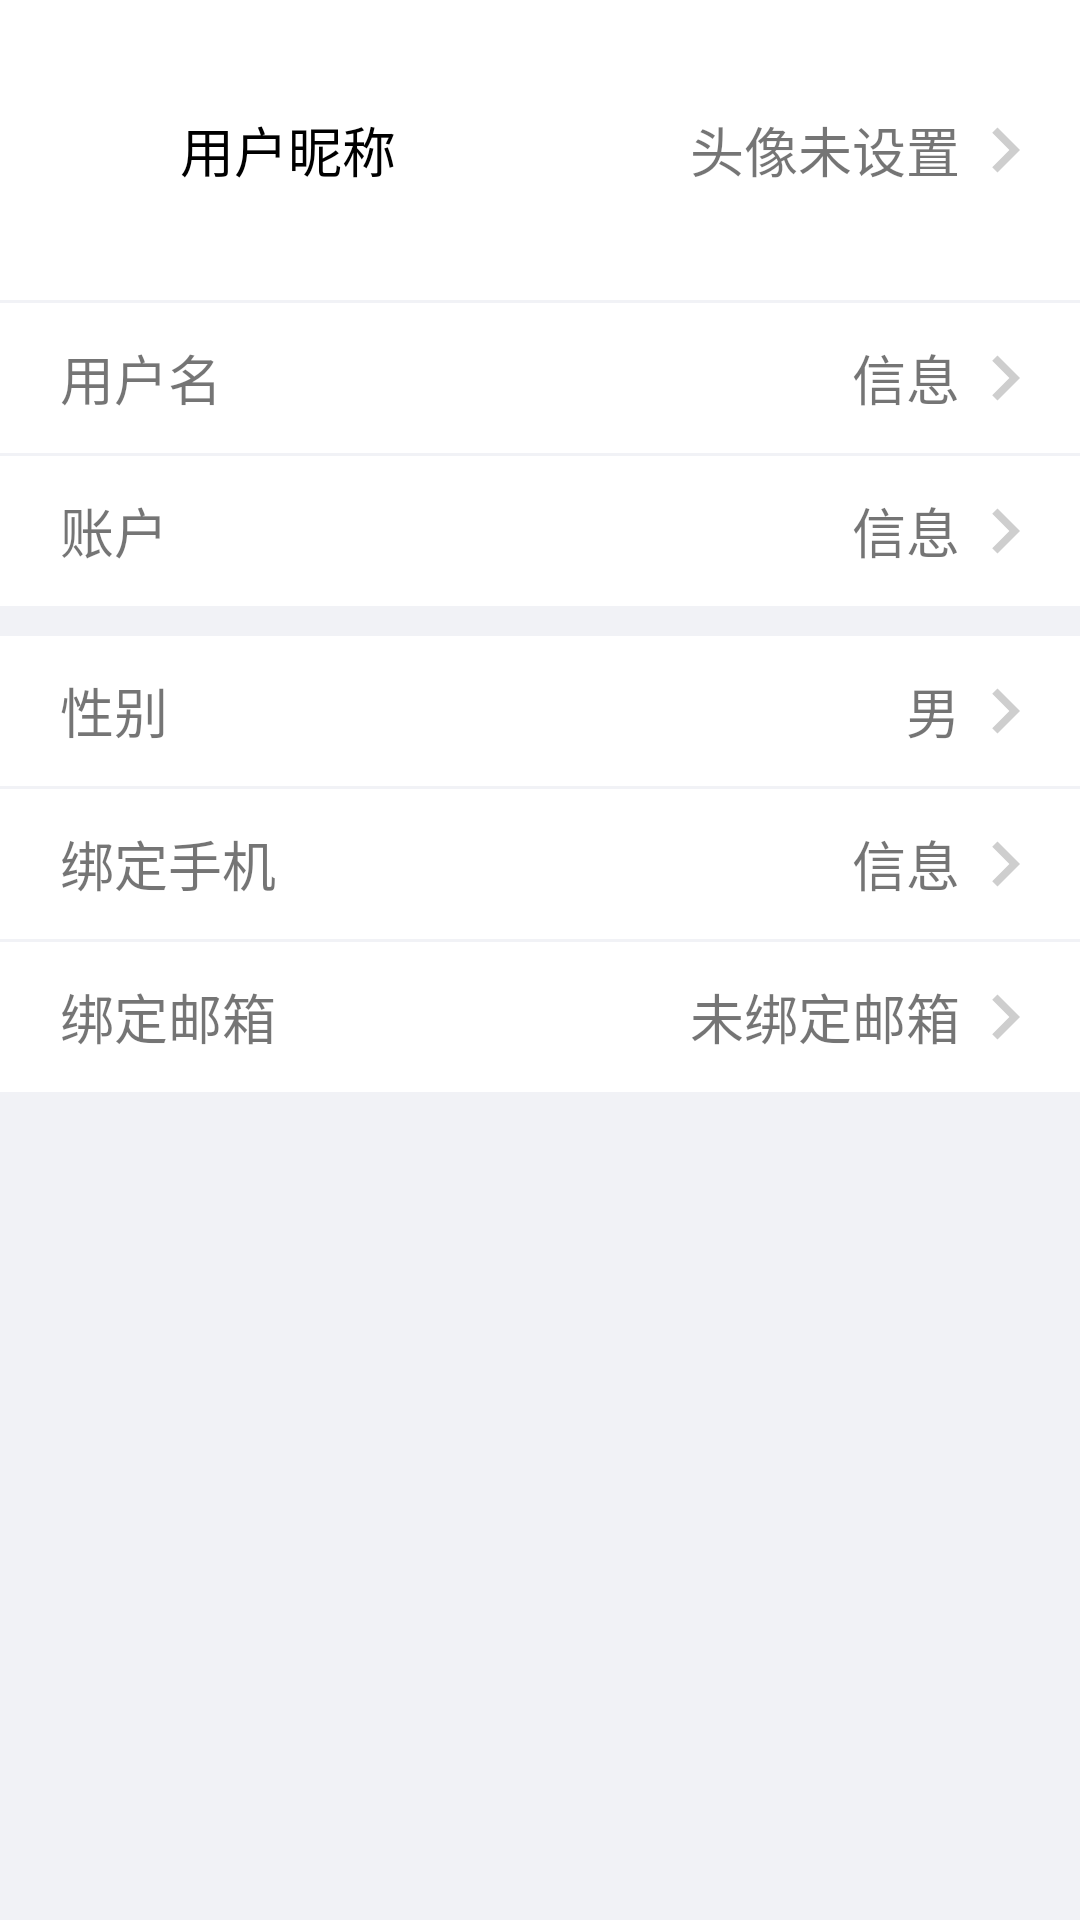

Named icons in this screenshot (1080x1920) and their bounding boxes, bbox=(x1, y1, x2, y2):
chevron right: bbox=(993, 128, 1020, 172), bbox=(993, 356, 1020, 400), bbox=(993, 509, 1020, 553), bbox=(993, 689, 1020, 733), bbox=(993, 842, 1020, 886), bbox=(993, 995, 1020, 1039)
